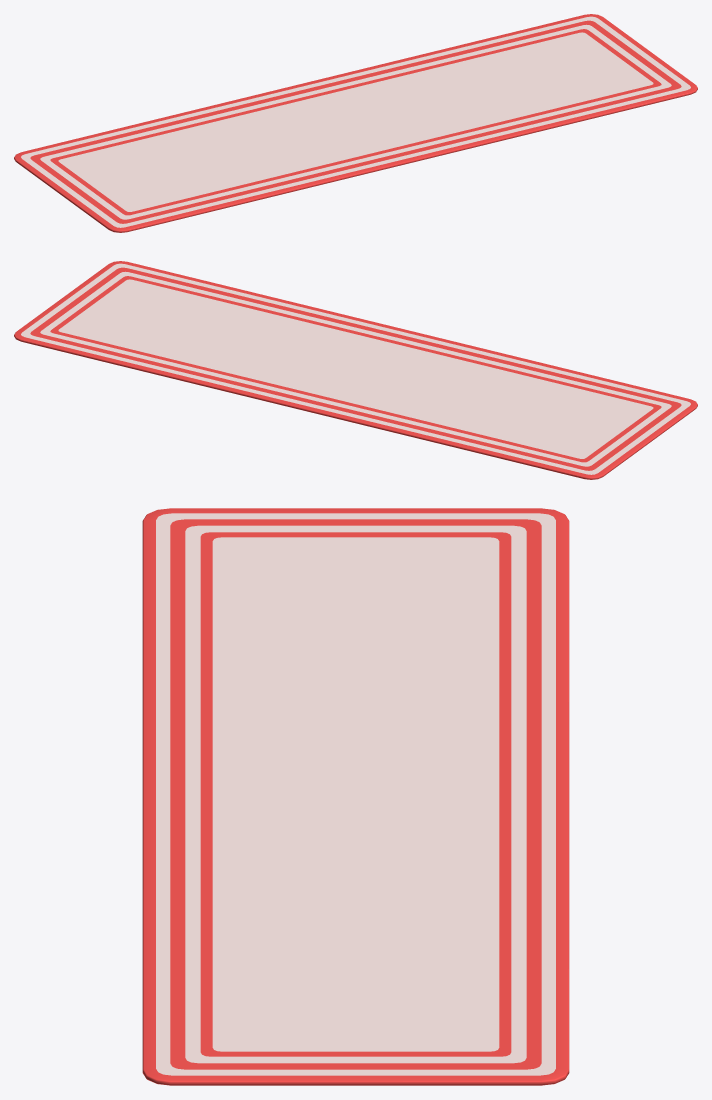
The model's file is Store_20_Carpet_1.glb.
3 views of the same model, one above another, from view 1: azimuth 30°, elevation 25°; view 2: azimuth 150°, elevation 25°; view 3: azimuth 270°, elevation 25° (orthographic). The views are drawn at different scales.
Visible parts, largest first — view 1: Store_20_Carpet_1; view 2: Store_20_Carpet_1; view 3: Store_20_Carpet_1.
Boxes of the visible parts, bbox=[...] form: Store_20_Carpet_1: bbox=[14, 14, 697, 232]; Store_20_Carpet_1: bbox=[14, 261, 697, 479]; Store_20_Carpet_1: bbox=[142, 508, 569, 1085].
Size of the model in its own units: 12.45 by 0.0504 by 3.91.
Materials: 1 (1 with a texture image).
